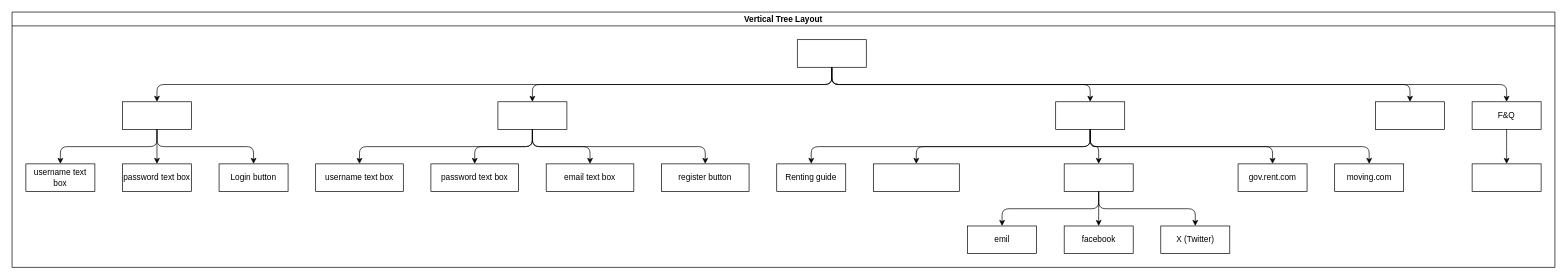
Image size: 1567x279. Some labels were removed from this diagram. Each missing label, with the box of its shape:
Direct to doc page: (1471, 163, 1541, 191)
footer: (1055, 101, 1125, 129)
Home: (797, 39, 866, 67)
login: (122, 101, 191, 129)
register: (497, 101, 567, 129)
Rent house Contract Download: (873, 163, 959, 191)
Repport & Conrtact: (1063, 163, 1133, 191)
Search box: (1375, 101, 1445, 129)
